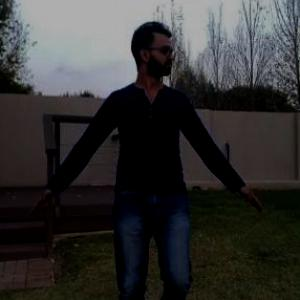land: (22, 13, 264, 299)
